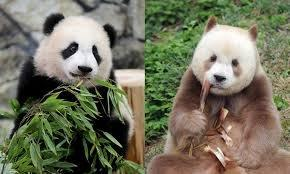bear: (147, 18, 289, 174), (15, 12, 135, 171)
